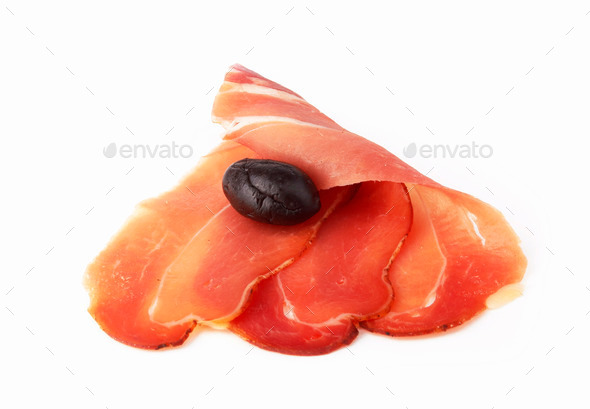bacon: (94, 37, 538, 373)
